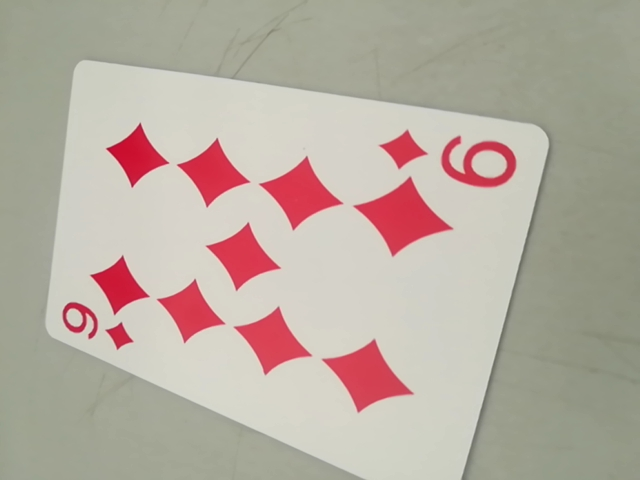fk 9: (371, 125, 525, 189), (50, 300, 143, 355)
